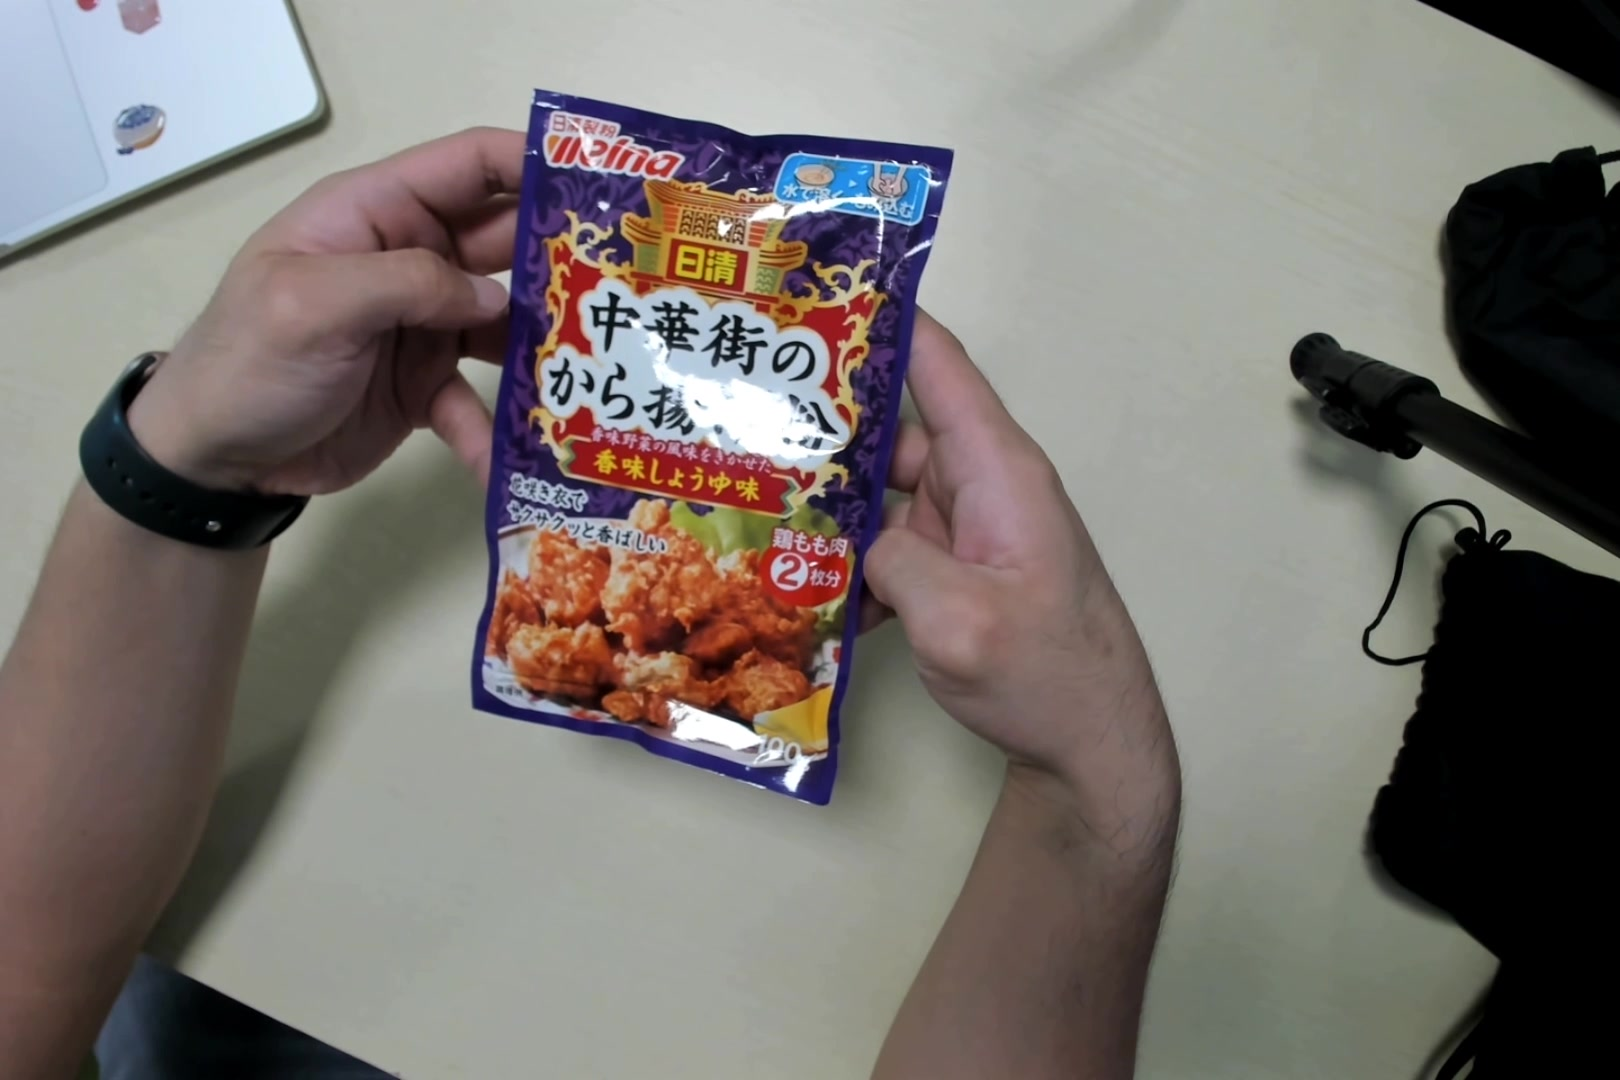OtherBakingNeeds_100-199g_NonHalal_NonHealthy: (479, 90, 949, 809)
